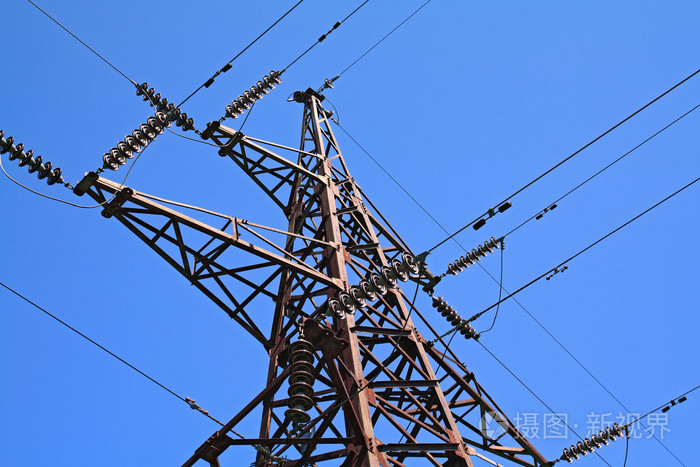insulator: (329, 248, 419, 320), (1, 129, 64, 188), (102, 115, 167, 168), (134, 82, 193, 130), (227, 68, 281, 120), (287, 340, 319, 424), (561, 422, 626, 460), (432, 295, 477, 340), (449, 237, 498, 276)
